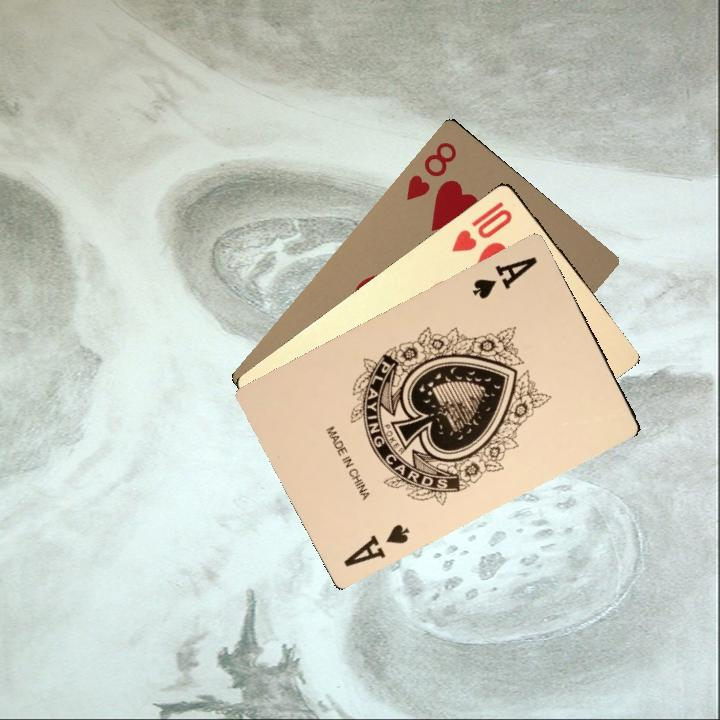10h: (447, 197, 515, 255)
8h: (402, 137, 460, 203)
As: (468, 252, 541, 302), (339, 520, 412, 570)
